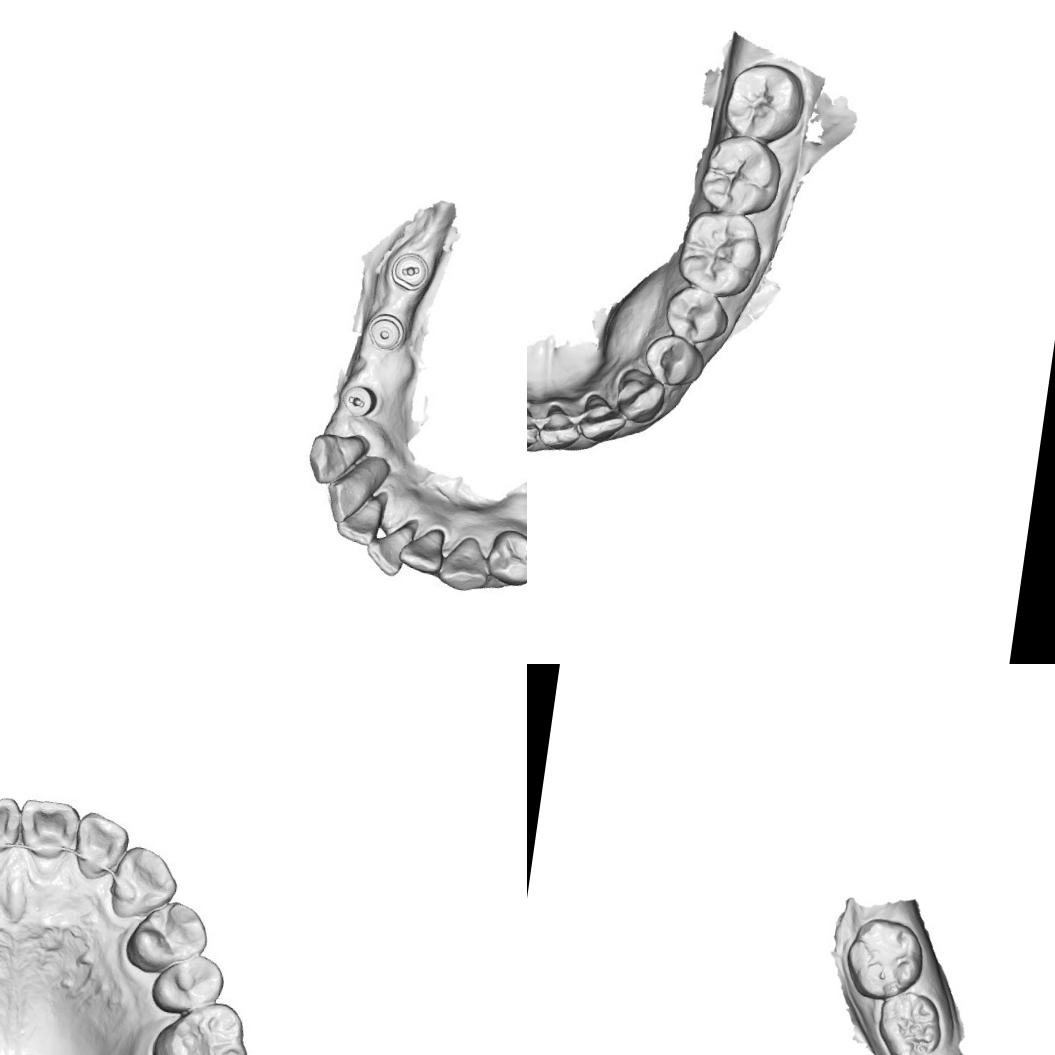canine: (107, 843, 183, 926), (303, 430, 371, 490), (437, 535, 495, 596), (612, 366, 668, 426)
implant: (368, 313, 404, 351)
implant_minus: (389, 249, 431, 296), (339, 384, 378, 418)
incisor: (69, 809, 133, 885), (15, 796, 82, 866), (323, 460, 381, 528), (576, 391, 630, 445), (332, 490, 382, 546), (398, 522, 447, 579), (362, 520, 410, 577), (536, 402, 584, 453), (0, 790, 24, 859), (527, 401, 543, 452)
molar: (673, 206, 767, 302), (840, 913, 930, 1005), (720, 58, 809, 148), (696, 130, 786, 218), (146, 993, 254, 1055), (871, 986, 948, 1055)
premolar: (122, 895, 210, 981), (148, 949, 228, 1020), (662, 282, 732, 348), (640, 331, 708, 390), (482, 523, 527, 589)
